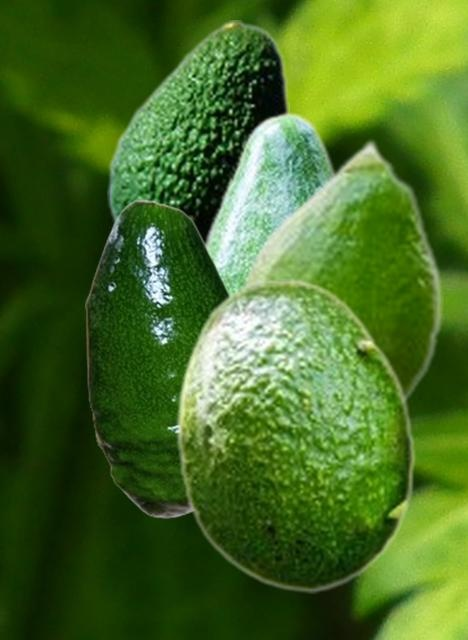avocado: (174, 278, 415, 592), (236, 137, 442, 404), (85, 199, 231, 517), (107, 20, 288, 238), (202, 111, 337, 292)
